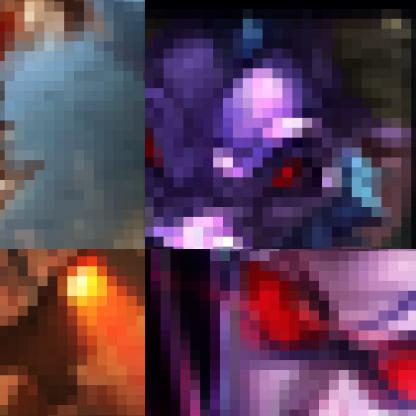Alistar: (145, 0, 415, 248)
Fiddlesticks: (0, 0, 144, 248)
Nautilus: (0, 249, 144, 415)
Vayne: (145, 249, 415, 415)
